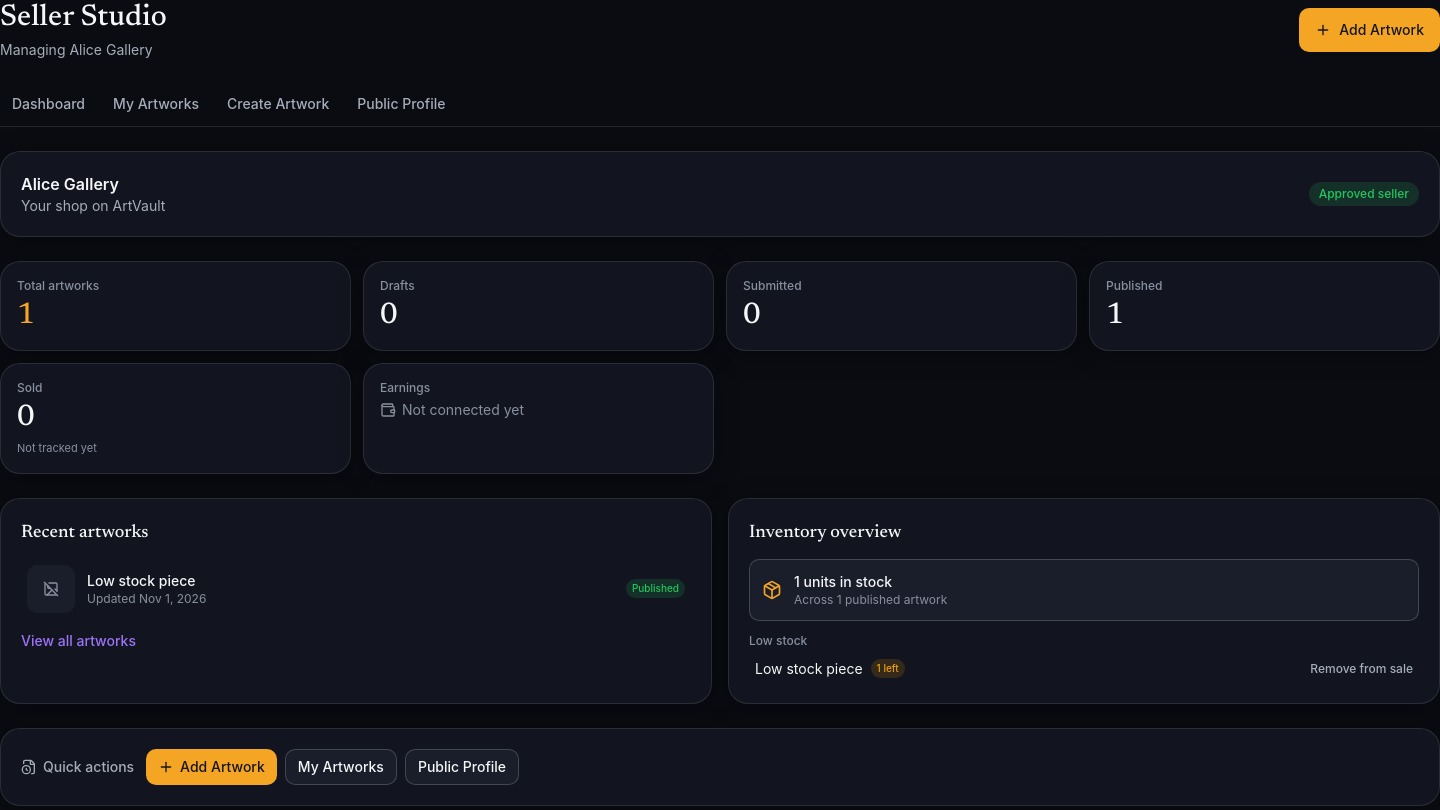
Test: SellerStudioHomePage › leaves the listing untouched when the Remove from sale confirmation is cancelled
The width and height of the screenshot is (1440, 810).
What coordinates should you click on to do the following:
click the button "Remove from sale"
I would click on:
 (1362, 668)
Its box is x1=1310 y1=660 x2=1413 y2=676.
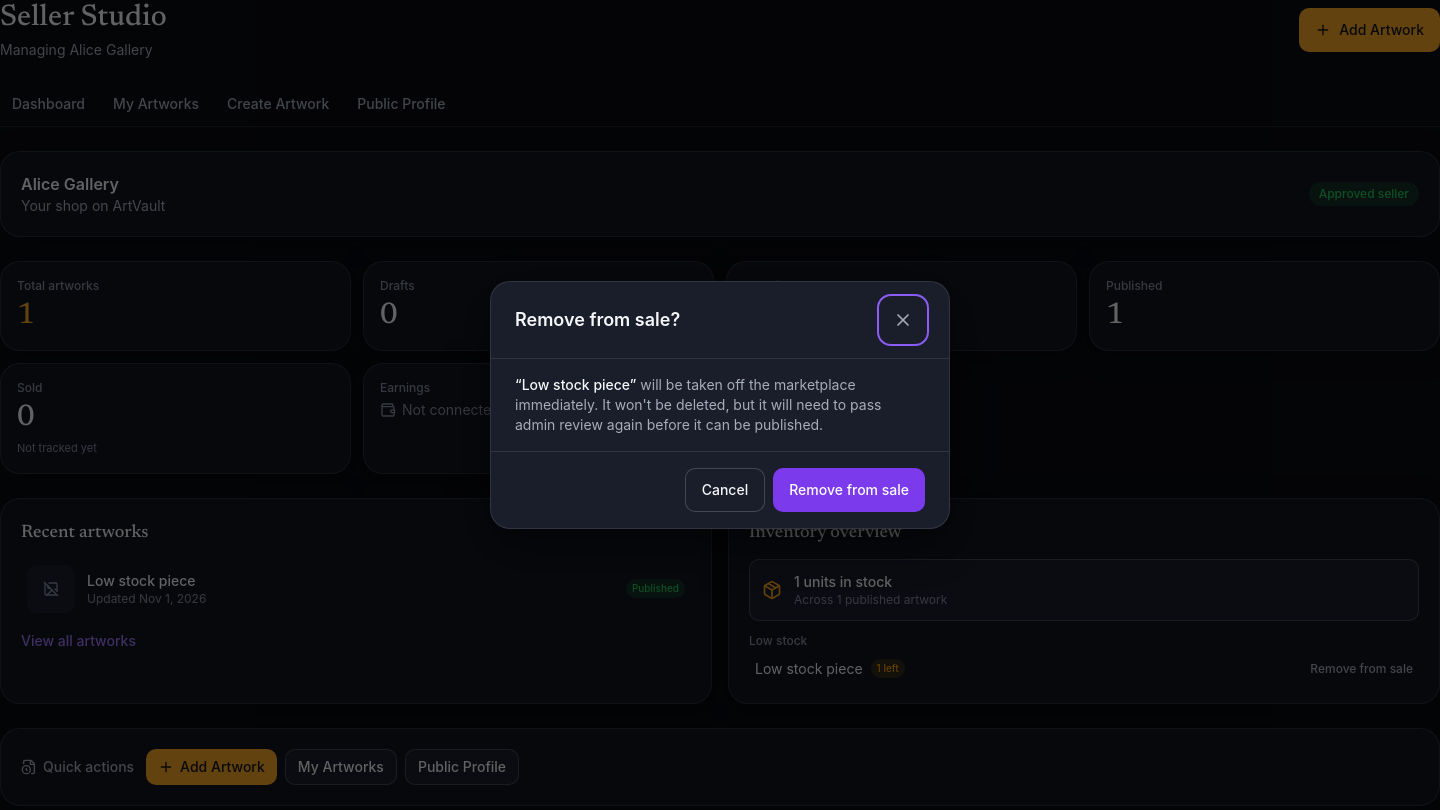
Result: the dialog "Remove from sale" is shown at x1=490 y1=281 x2=950 y2=529
What coordinates should you click on to do the following:
click the button "Cancel"
I would click on:
 (725, 490)
Its box is x1=685 y1=468 x2=765 y2=512.
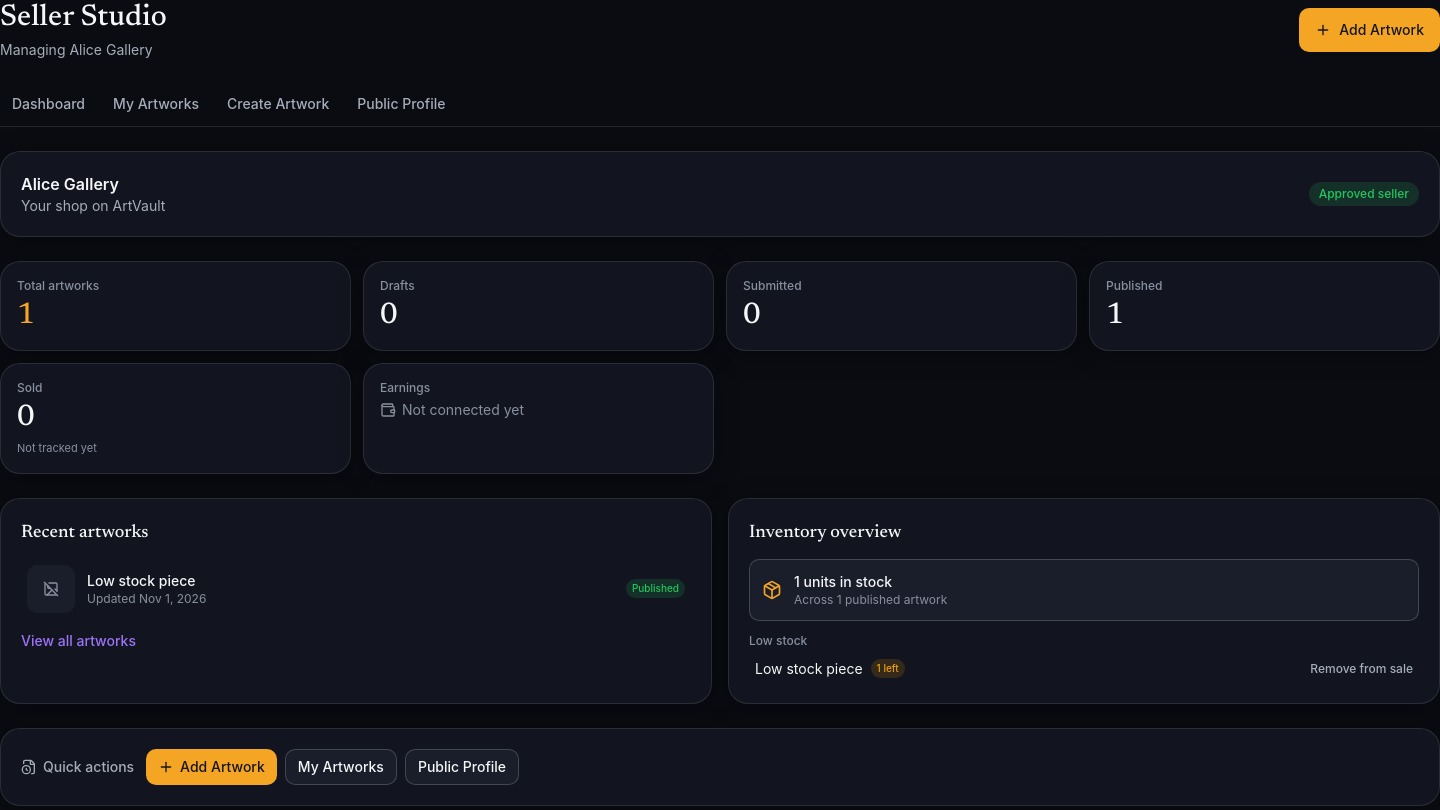
Result: the dialog is gone
